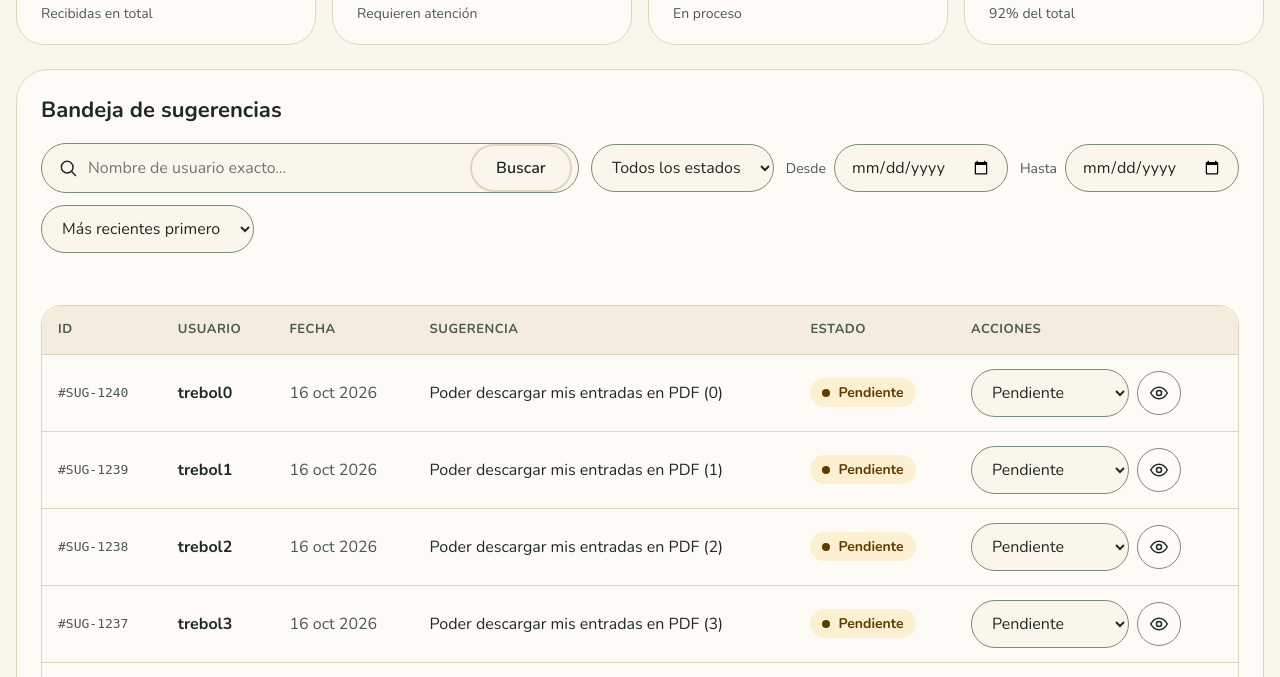
Test case: PanelSugerencias cuando la fuente también resume y permite cambiar el estado (HU-11) › se puede cerrar la ventana sin guardar
The image size is (1280, 677).
(page scrolled)
Expected: the text "trebol0" is shown, [162, 354, 273, 431]
Click the button named "Ver la sugerencia SUG-1240".
click(1159, 392)  # box [1137, 370, 1181, 414]
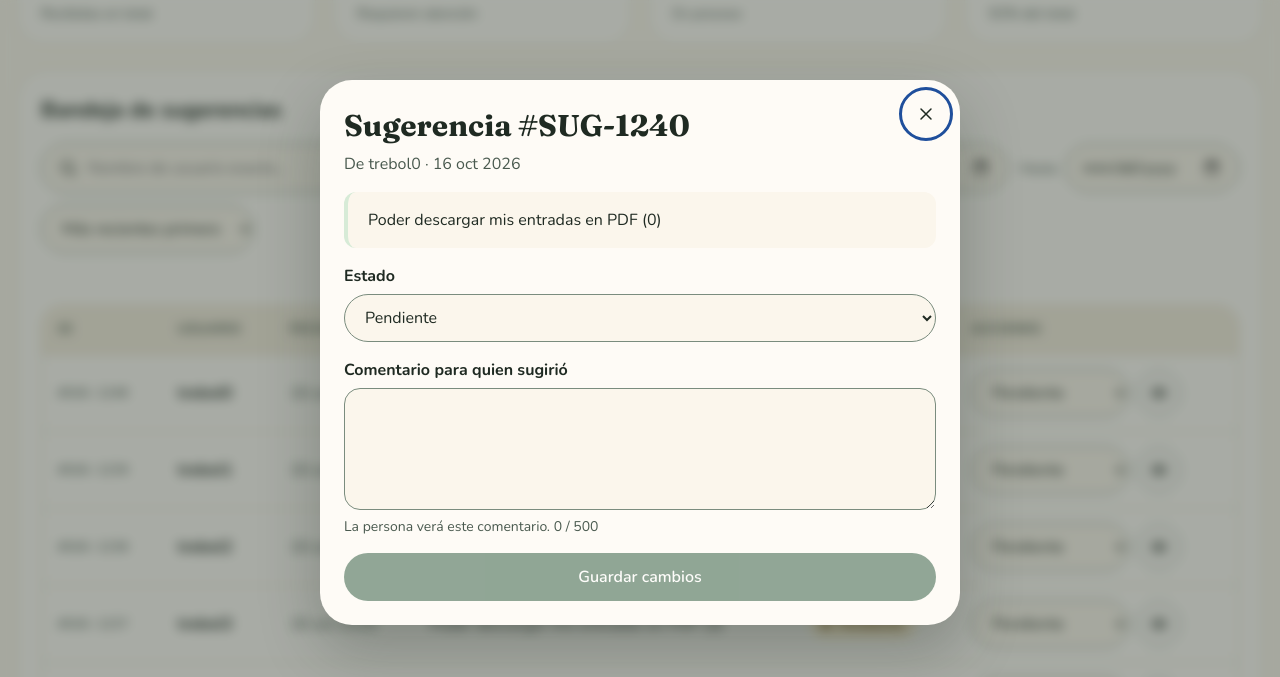
Click the button named "Cerrar".
click(926, 114)  # box [904, 92, 948, 136]
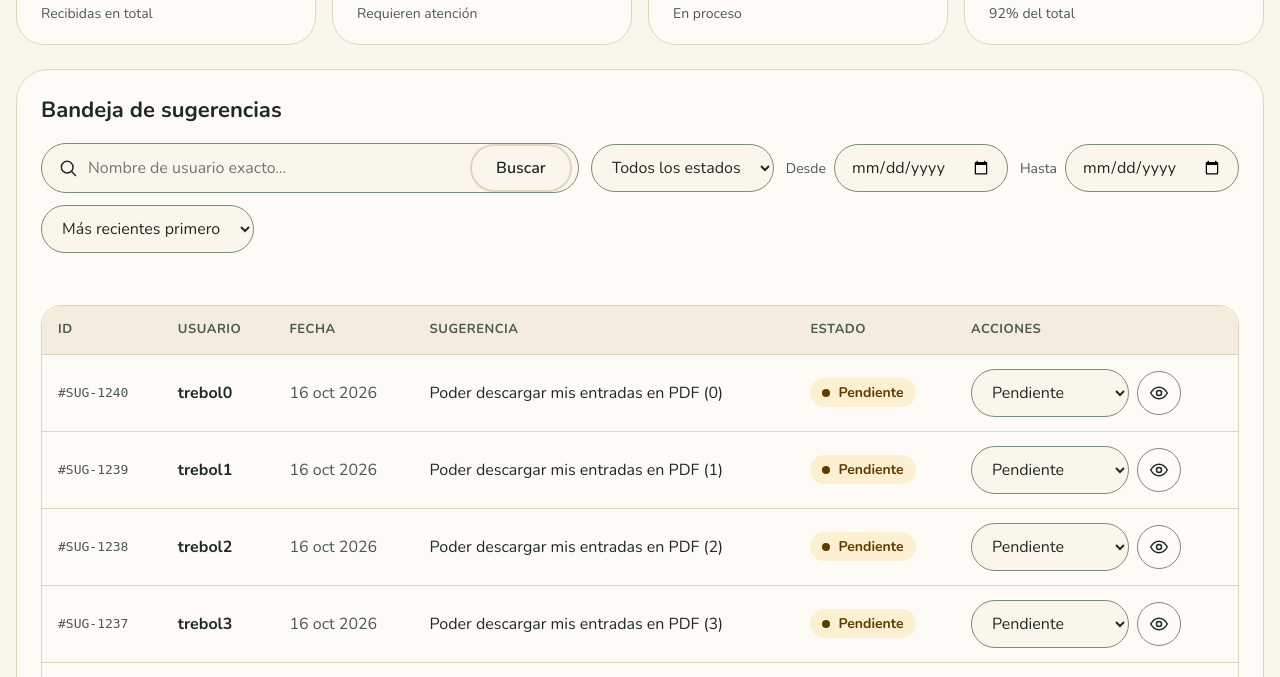
Expected: the dialog is gone
